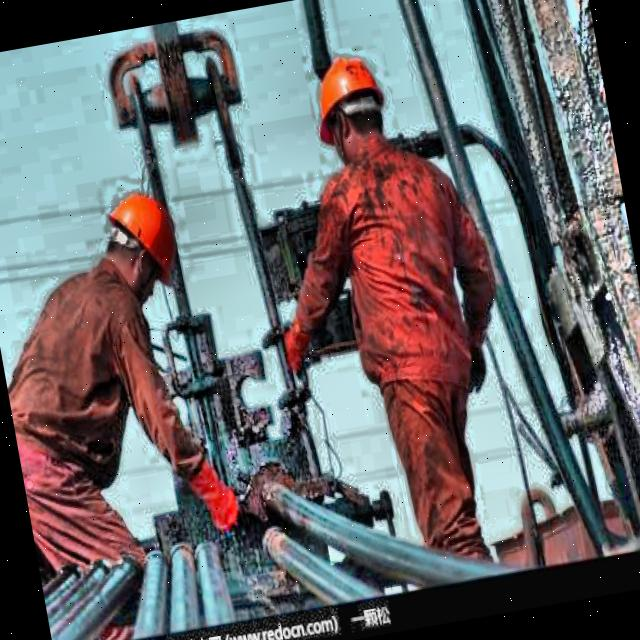helmet: (81, 175, 194, 308), (300, 45, 402, 186)
